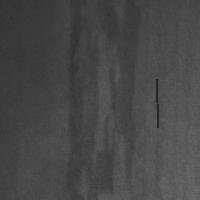inclusion: (69, 1, 140, 200), (154, 77, 159, 129)
